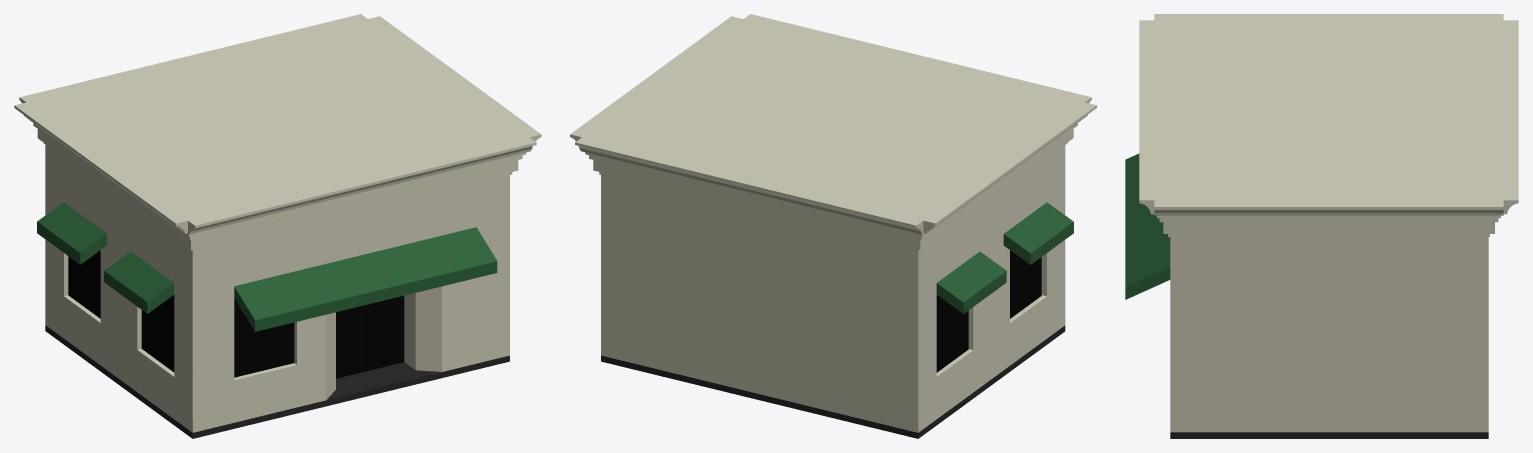
The model's file is Restaurante 2.fbx.
The picture shows the model from 3 angles, left to right: view 1: azimuth 30°, elevation 25°; view 2: azimuth 150°, elevation 25°; view 3: azimuth 270°, elevation 25°; orthographic projection. The views are drawn at different scales.
Visible parts, largest first — view 1: Restaurante principal, Teto 5, Lona entrada, Teto 2, Cube.008, Chão, Janela Frente, Cube.007, Porta entrada dir, Cube.009, Lona Janela 2, Lona Janela 1 (+7 smaller); view 2: Restaurante principal, Teto 5, Teto 2, Cube.009, Chão, Cube.007, Cube.008, Lona Janela 1, Lona Janela 2, Cube.006, Teto 3, Janela 2 (+3 smaller); view 3: Teto 5, Restaurante principal, Cube.006, Lona entrada, Teto 2, Cube.009, Cube.008, Cube.007, Chão, Teto 3, Teto 4, Teto 1.
Part boxes in pixels (bbox=[...]): Restaurante principal: bbox=[45, 145, 509, 432]; Teto 5: bbox=[27, 19, 529, 220]; Lona entrada: bbox=[234, 227, 497, 331]; Teto 2: bbox=[37, 129, 518, 250]; Cube.008: bbox=[188, 137, 536, 234]; Chão: bbox=[45, 325, 509, 438]; Janela Frente: bbox=[234, 298, 294, 377]; Cube.007: bbox=[14, 102, 187, 233]; Porta entrada dir: bbox=[366, 295, 404, 370]; Cube.009: bbox=[19, 14, 367, 103]; Lona Janela 2: bbox=[37, 202, 107, 264]; Lona Janela 1: bbox=[104, 251, 174, 313]; Restaurante principal: bbox=[601, 145, 1065, 432]; Teto 5: bbox=[582, 19, 1084, 220]; Teto 2: bbox=[593, 129, 1073, 250]; Cube.009: bbox=[575, 137, 923, 234]; Chão: bbox=[601, 325, 1065, 438]; Cube.007: bbox=[923, 102, 1096, 233]; Cube.008: bbox=[744, 14, 1091, 103]; Lona Janela 1: bbox=[1003, 202, 1073, 264]; Lona Janela 2: bbox=[936, 251, 1006, 313]; Cube.006: bbox=[570, 16, 743, 149]; Teto 3: bbox=[589, 123, 1077, 239]; Janela 2: bbox=[936, 295, 968, 372]; Teto 5: bbox=[1154, 20, 1503, 200]; Restaurante principal: bbox=[1170, 237, 1488, 432]; Cube.006: bbox=[1154, 200, 1503, 215]; Lona entrada: bbox=[1125, 153, 1170, 299]; Teto 2: bbox=[1163, 222, 1494, 233]; Cube.009: bbox=[1503, 20, 1518, 214]; Cube.008: bbox=[1139, 20, 1154, 214]; Cube.007: bbox=[1154, 14, 1503, 20]; Chão: bbox=[1170, 432, 1488, 438]; Teto 3: bbox=[1159, 218, 1498, 222]; Teto 4: bbox=[1157, 215, 1500, 218]; Teto 1: bbox=[1168, 234, 1489, 236].
Size of the model in its own units: 982 by 577 by 841.
